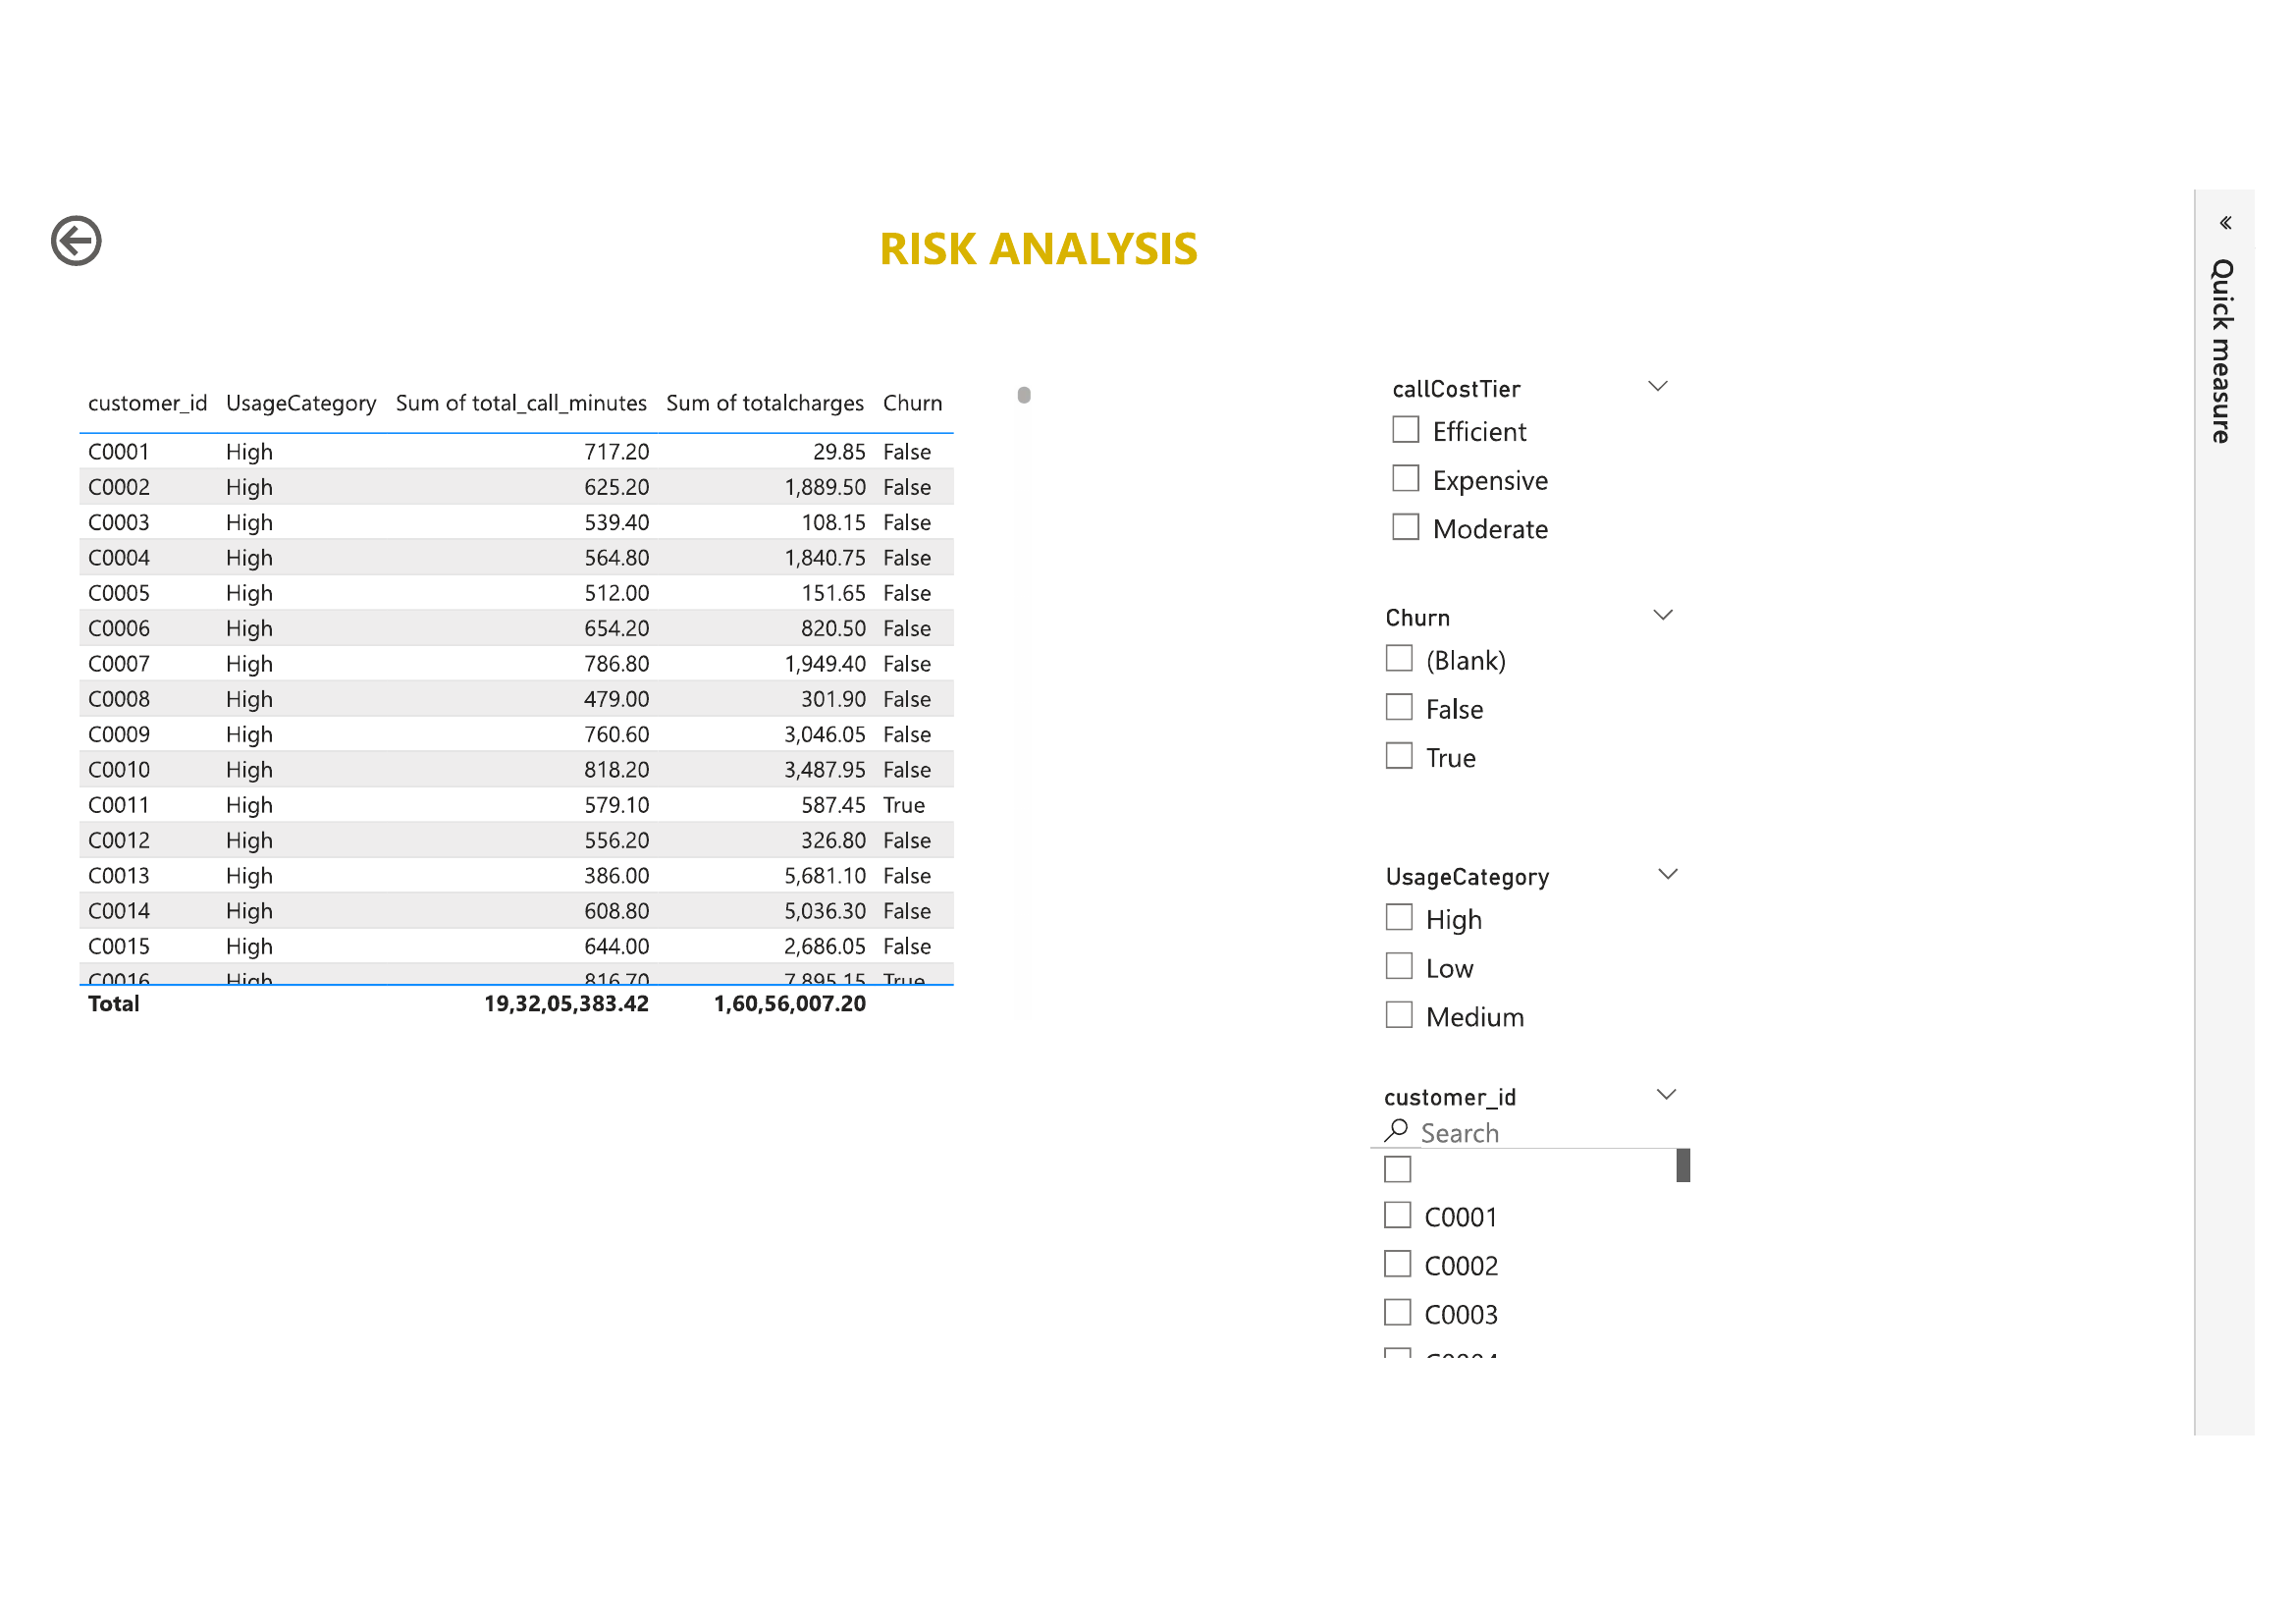

The page's visual inventory and layout, read from the dashboard file:
{"tool":"powerbi","page":{"name":"Risk analysis","canvas":[1280,720],"ordinal":3},"visuals":[{"type":"textbox","box":[406.2,0,372.5,57.5],"z":0},{"type":"tableEx","fields":{"Values":["project(dashboards).customer_id","project(dashboards).UsageCategory","Sum(project(dashboards).total_call_minutes)","Sum(project(dashboards).totalcharges)","project(dashboards).Churn"]},"box":[16.2,101.2,576.2,386.2],"z":1},{"type":"actionButton","box":[0,0,100,40],"z":3},{"type":"slicer","fields":{"Values":["project(dashboards).callCostTier"]},"box":[790,95,190,121.2],"z":4},{"type":"slicer","fields":{"Values":["project(dashboards).Churn"]},"box":[786.2,231.2,196.2,145],"z":5},{"type":"slicer","fields":{"Values":["project(dashboards).UsageCategory"]},"box":[786.2,385,200,121.2],"z":6},{"type":"slicer","fields":{"Values":["project(dashboards).customer_id"]},"box":[785,516,200,174],"z":7}]}

Visuals, with their boxes on the page's 1280x720 design canvas (x1, y1, x2, y2). These are canvas units, not pixel positions in the 2296x1624 screenshot, which may show the page scaled, cropped or inside an application window:
textbox: x1=406 y1=0 x2=779 y2=58
tableEx - project(dashboards).customer_id x project(dashboards).UsageCategory: x1=16 y1=101 x2=592 y2=487
actionButton: x1=0 y1=0 x2=100 y2=40
slicer - project(dashboards).callCostTier: x1=790 y1=95 x2=980 y2=216
slicer - project(dashboards).Churn: x1=786 y1=231 x2=982 y2=376
slicer - project(dashboards).UsageCategory: x1=786 y1=385 x2=986 y2=506
slicer - project(dashboards).customer_id: x1=785 y1=516 x2=985 y2=690
